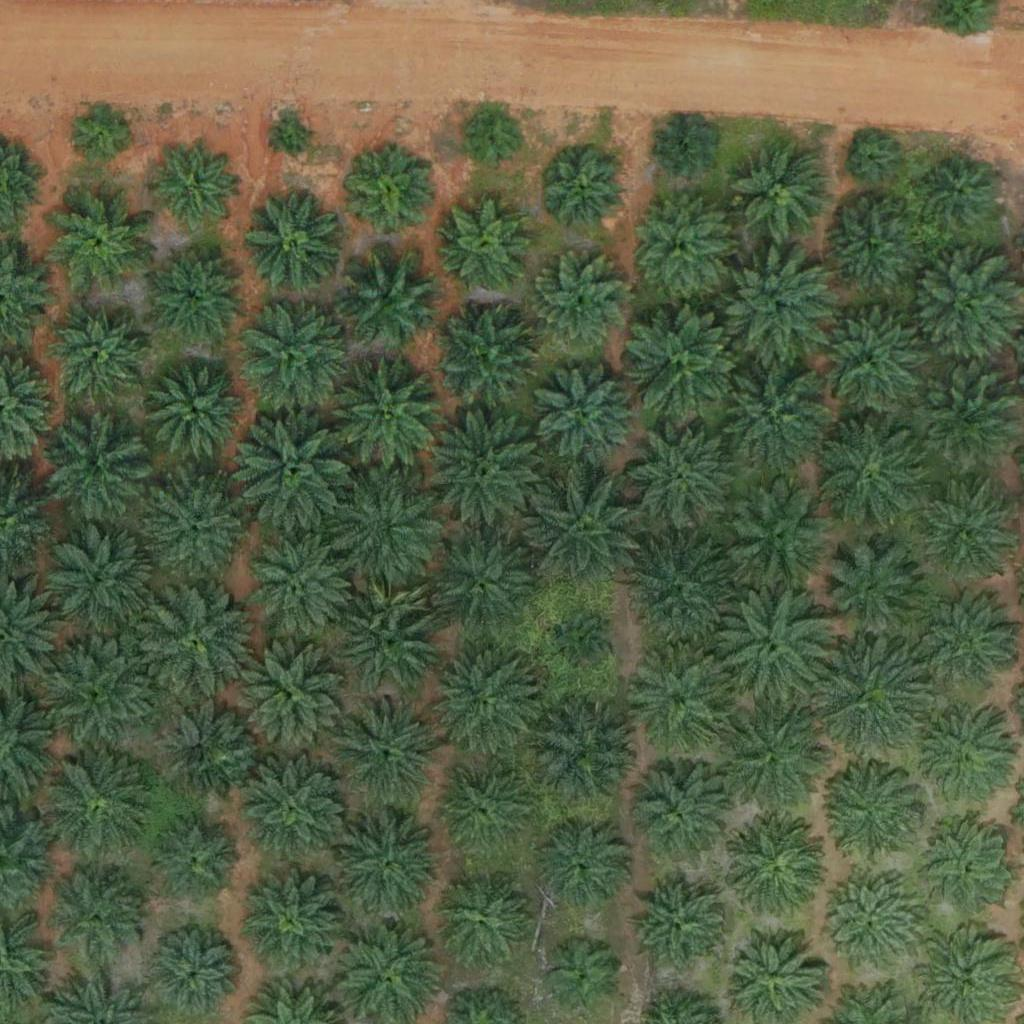Kelapa_Sawit: (228, 411, 353, 537), (321, 468, 446, 594), (417, 410, 542, 536), (522, 469, 647, 595), (623, 300, 748, 426), (619, 529, 744, 655), (706, 349, 831, 475), (716, 580, 841, 706), (811, 411, 936, 537), (806, 636, 931, 762), (712, 694, 837, 820), (131, 581, 256, 706), (807, 303, 932, 428), (38, 630, 163, 755), (38, 743, 163, 868), (331, 359, 444, 473), (431, 300, 544, 414), (530, 695, 643, 809), (423, 527, 536, 640), (428, 644, 541, 757), (720, 249, 833, 362), (721, 481, 834, 594), (816, 537, 929, 650), (903, 699, 1016, 812), (336, 809, 449, 922), (628, 644, 740, 758), (237, 294, 349, 407), (240, 530, 352, 643), (330, 579, 442, 692), (531, 361, 643, 474), (622, 418, 734, 531), (909, 252, 1021, 365), (910, 364, 1022, 477), (427, 758, 539, 871), (332, 692, 444, 805), (52, 192, 152, 293), (47, 307, 147, 408), (48, 421, 148, 522), (52, 525, 152, 626), (144, 244, 244, 345), (146, 360, 246, 461), (143, 476, 243, 577), (240, 648, 340, 749), (527, 254, 627, 355), (631, 195, 731, 296), (731, 143, 831, 244), (820, 197, 920, 298), (918, 819, 1018, 920), (819, 763, 919, 864), (433, 872, 533, 973), (244, 762, 344, 863), (238, 873, 338, 974), (152, 699, 252, 800), (49, 867, 149, 968), (244, 189, 344, 289), (339, 247, 439, 347), (821, 872, 921, 972), (724, 821, 824, 921), (624, 765, 724, 865), (631, 878, 731, 978), (532, 820, 632, 920), (149, 819, 237, 908), (149, 144, 237, 232), (442, 199, 530, 287), (541, 148, 629, 236), (922, 487, 1010, 575), (146, 931, 234, 1019), (348, 153, 435, 241), (543, 935, 618, 1011), (923, 156, 998, 231), (552, 615, 615, 678), (653, 118, 716, 181), (68, 99, 130, 162), (463, 111, 525, 174), (848, 135, 898, 185), (275, 119, 312, 157)
